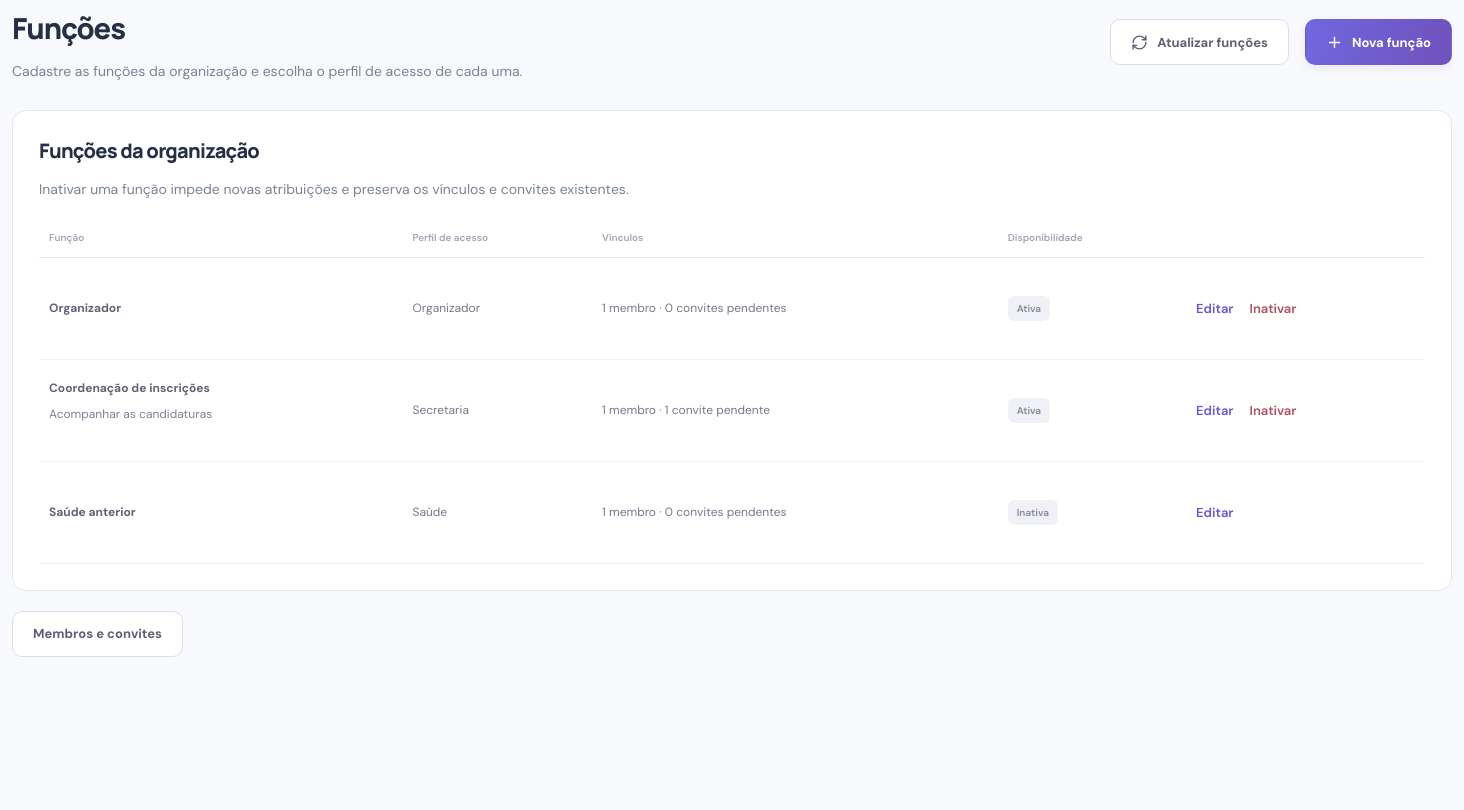
Test: Catálogo de funções › inativa sem excluir o histórico e permite reativar pela edição
Click the button with aria-label "Inativar Coordenação de inscrições".
click(1273, 410)  # box [1250,392,1296,429]
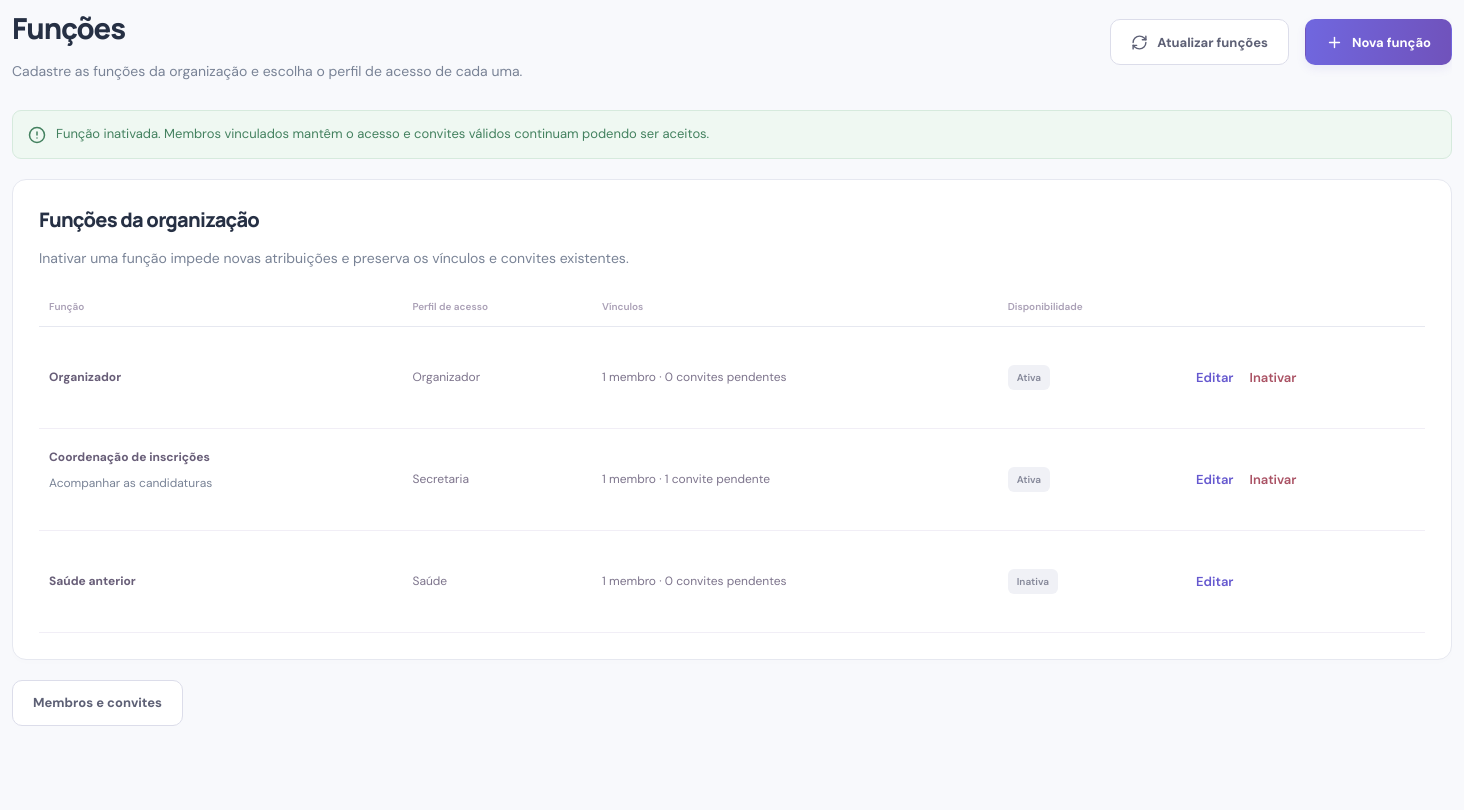
expect the text "Função inativada. Membros vinculados mantêm o acesso" is shown: met, box [56,125,709,142]
Click the button with aria-label "Editar Saúde anterior".
click(1215, 581)  # box [1196,563,1234,600]
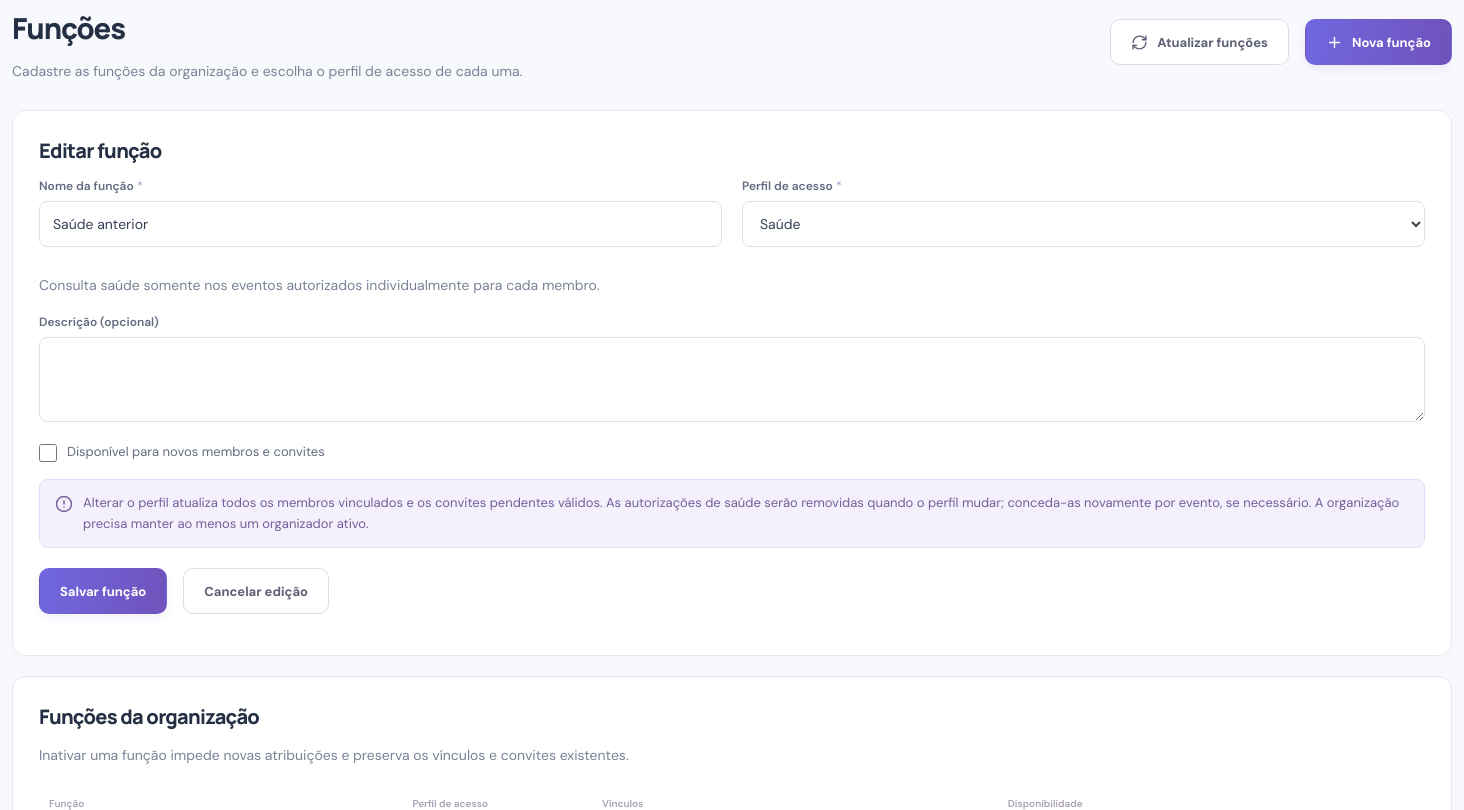
expect the checkbox labelled "Disponível para novos membros e convites" is not checked: met
Click the checkbox labelled "Disponível para novos membros e convites".
click(48, 453)  # box [39,444,57,462]
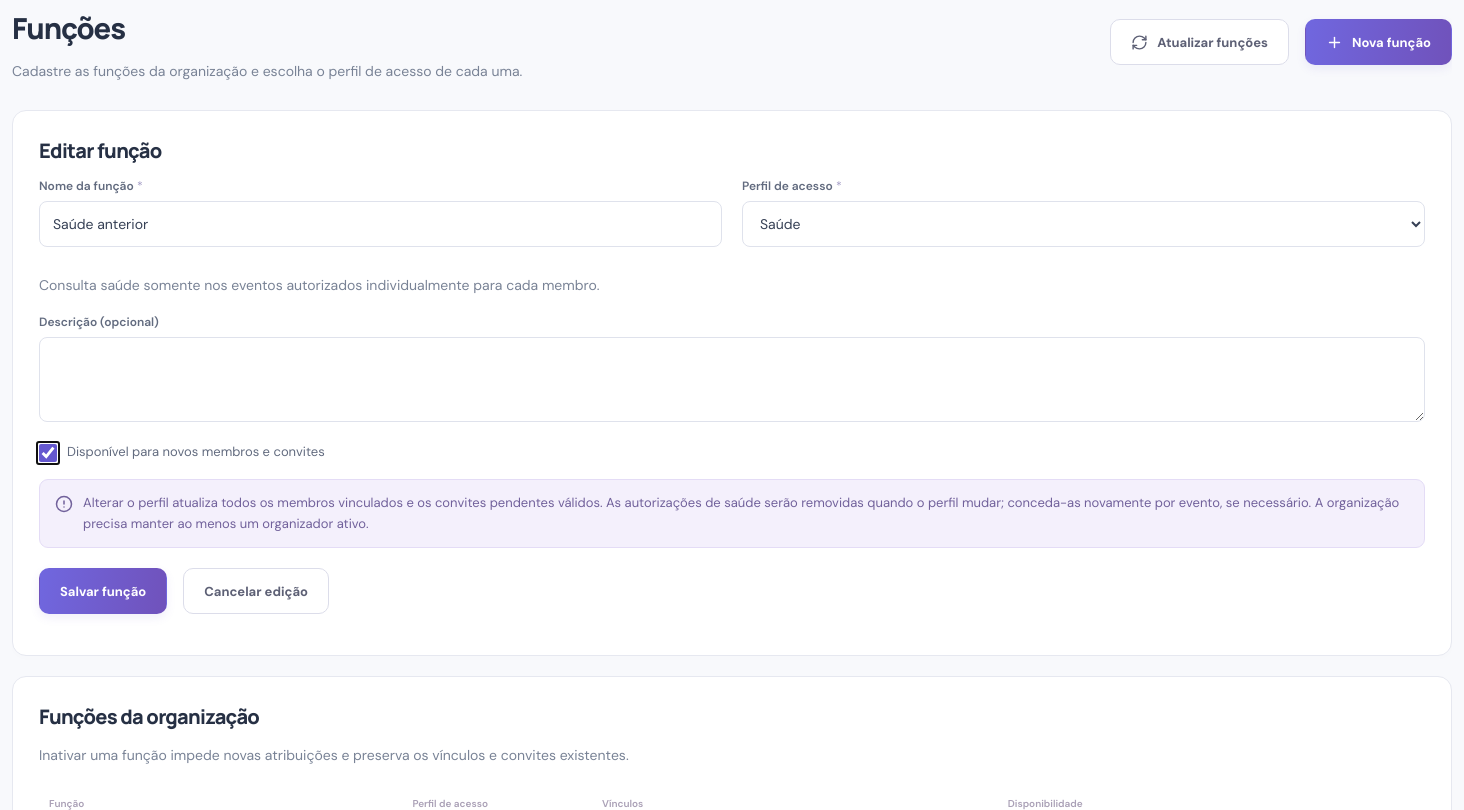
Click the button "Salvar função".
click(103, 591)  # box [39,568,167,614]
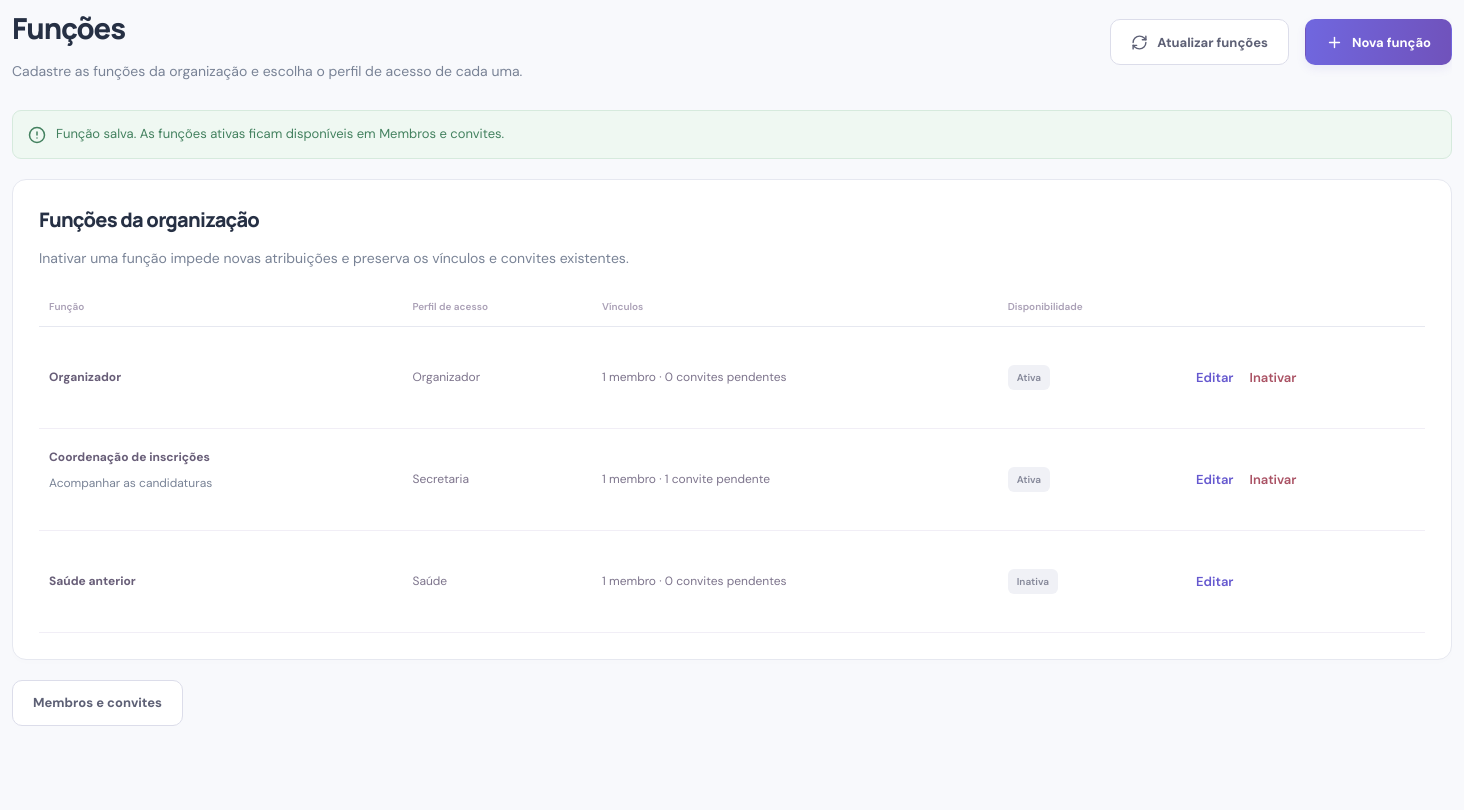
expect the text "Função salva. As funções ativas ficam disponíveis em Membros e convites." is shown: met, box [56,124,504,145]
